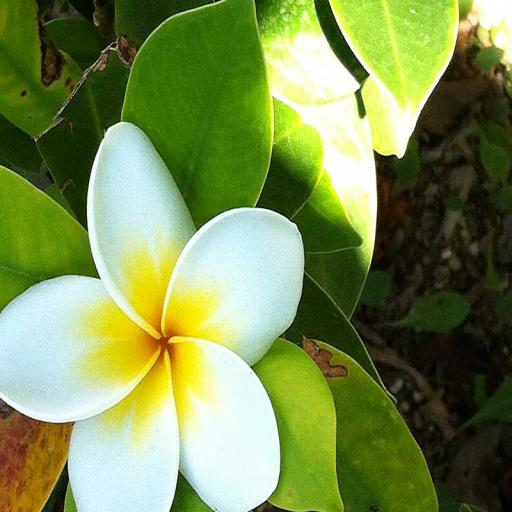Frangipani: (2, 114, 308, 511)
